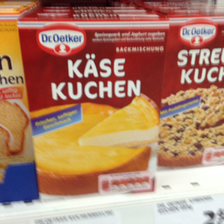cake: (18, 13, 163, 203), (156, 10, 224, 170)
